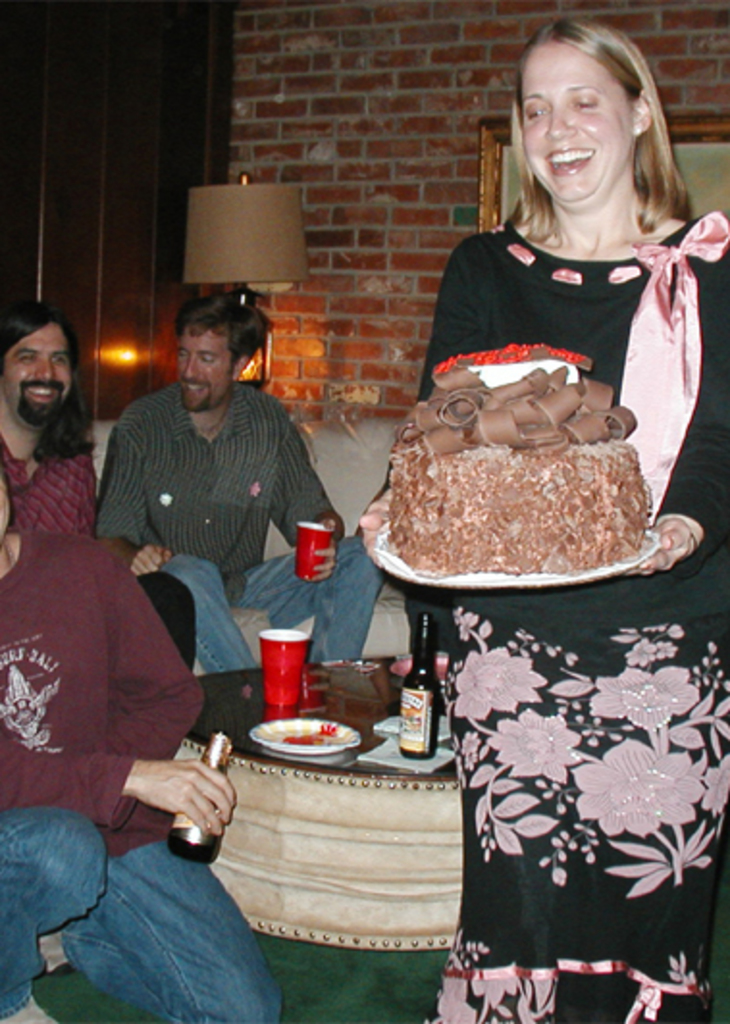cake: (385, 364, 653, 568)
